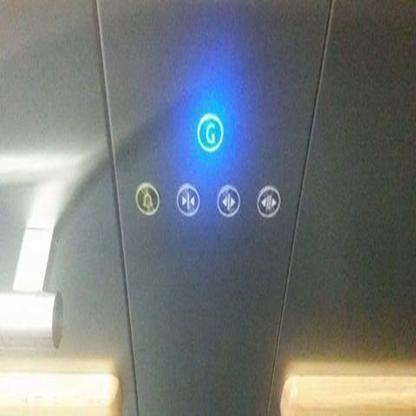G: (195, 109, 224, 160)
alarm: (133, 180, 160, 220)
close: (172, 180, 202, 218)
open: (214, 183, 242, 218), (254, 185, 282, 220)
